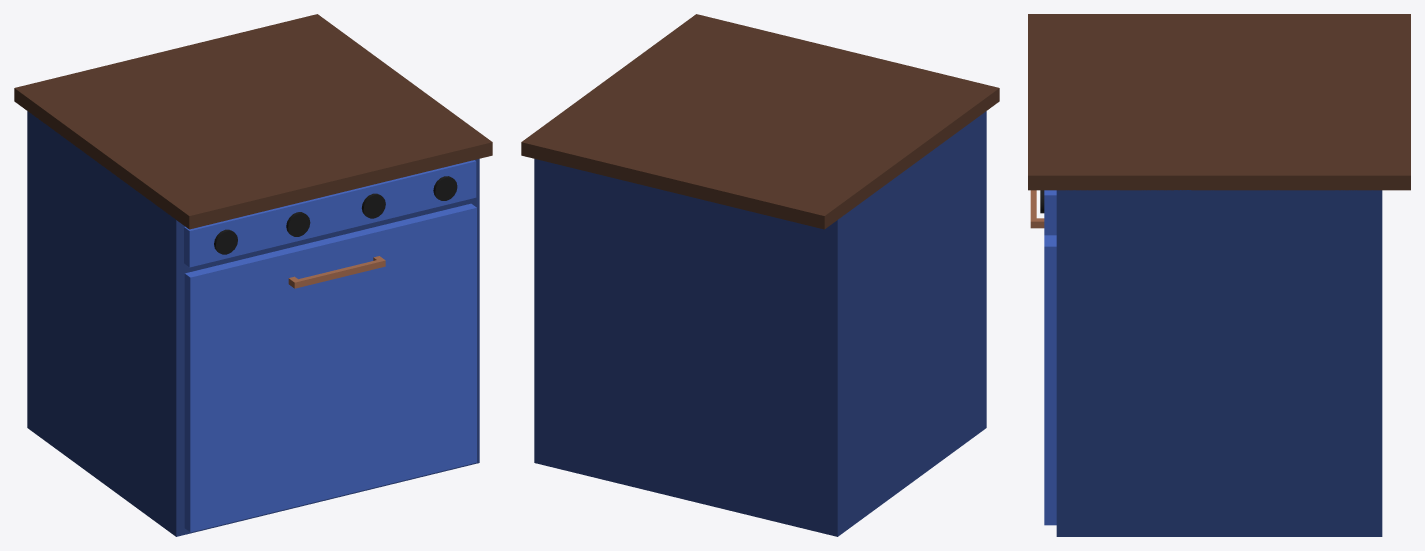
Rendered from dishwasher.fbx.
3 renders of one model, left to right at view 1: azimuth 30°, elevation 25°; view 2: azimuth 150°, elevation 25°; view 3: azimuth 270°, elevation 25°, orthographic. The views are drawn at different scales.
Visible parts, largest first — view 1: Cube_4_2, Cube_4, Cube_5, Cube_1, Cube; view 2: Cube_5, Cube_4; view 3: Cube_5, Cube_4, Cube_4_2, Cube_1.
Part boxes in pixels (box(x1,y1,x2,y2)): Cube_4_2: box(184, 203, 476, 532); Cube_4: box(14, 14, 492, 229); Cube_5: box(27, 111, 479, 536); Cube_1: box(184, 160, 476, 267); Cube: box(288, 256, 385, 288); Cube_5: box(534, 111, 986, 536); Cube_4: box(521, 14, 999, 229); Cube_5: box(1056, 190, 1382, 536); Cube_4: box(1028, 14, 1410, 190); Cube_4_2: box(1044, 235, 1056, 525); Cube_1: box(1044, 190, 1056, 235).
Bounding box in the file's own units: 200 × 208 × 200.
